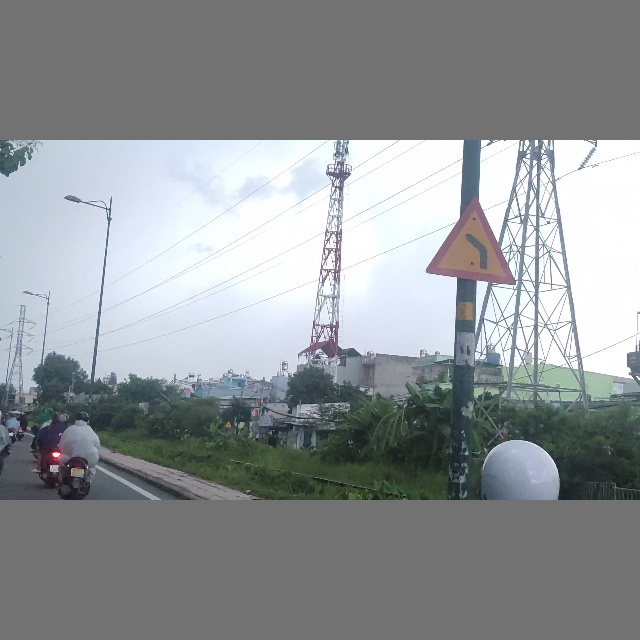W.201a: (426, 197, 517, 285)
